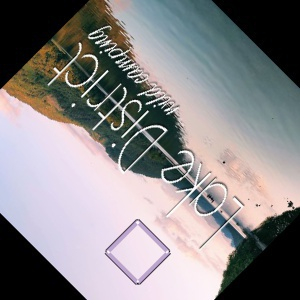square: (103, 218, 172, 286)
